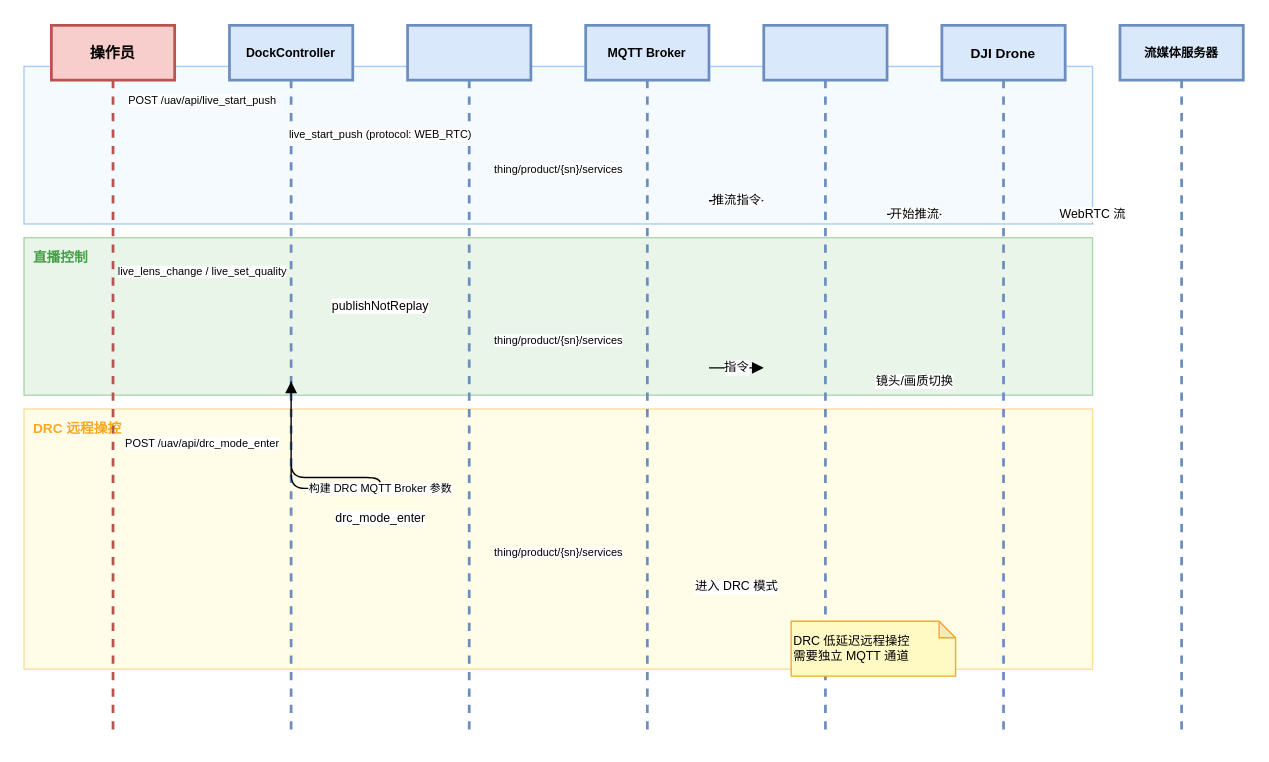
The diagram is 1269 pixels wide and 762 high, and some of its shapes have lost their labels. The shapes that lost their labels are listed below. From the top down, each one's box as (x1, y1, x2, y2) in pixels, then its label:
(23, 65, 1093, 224): 开启直播
(406, 23, 532, 738): ServicesPublish
(762, 23, 888, 738): DJI Dock
